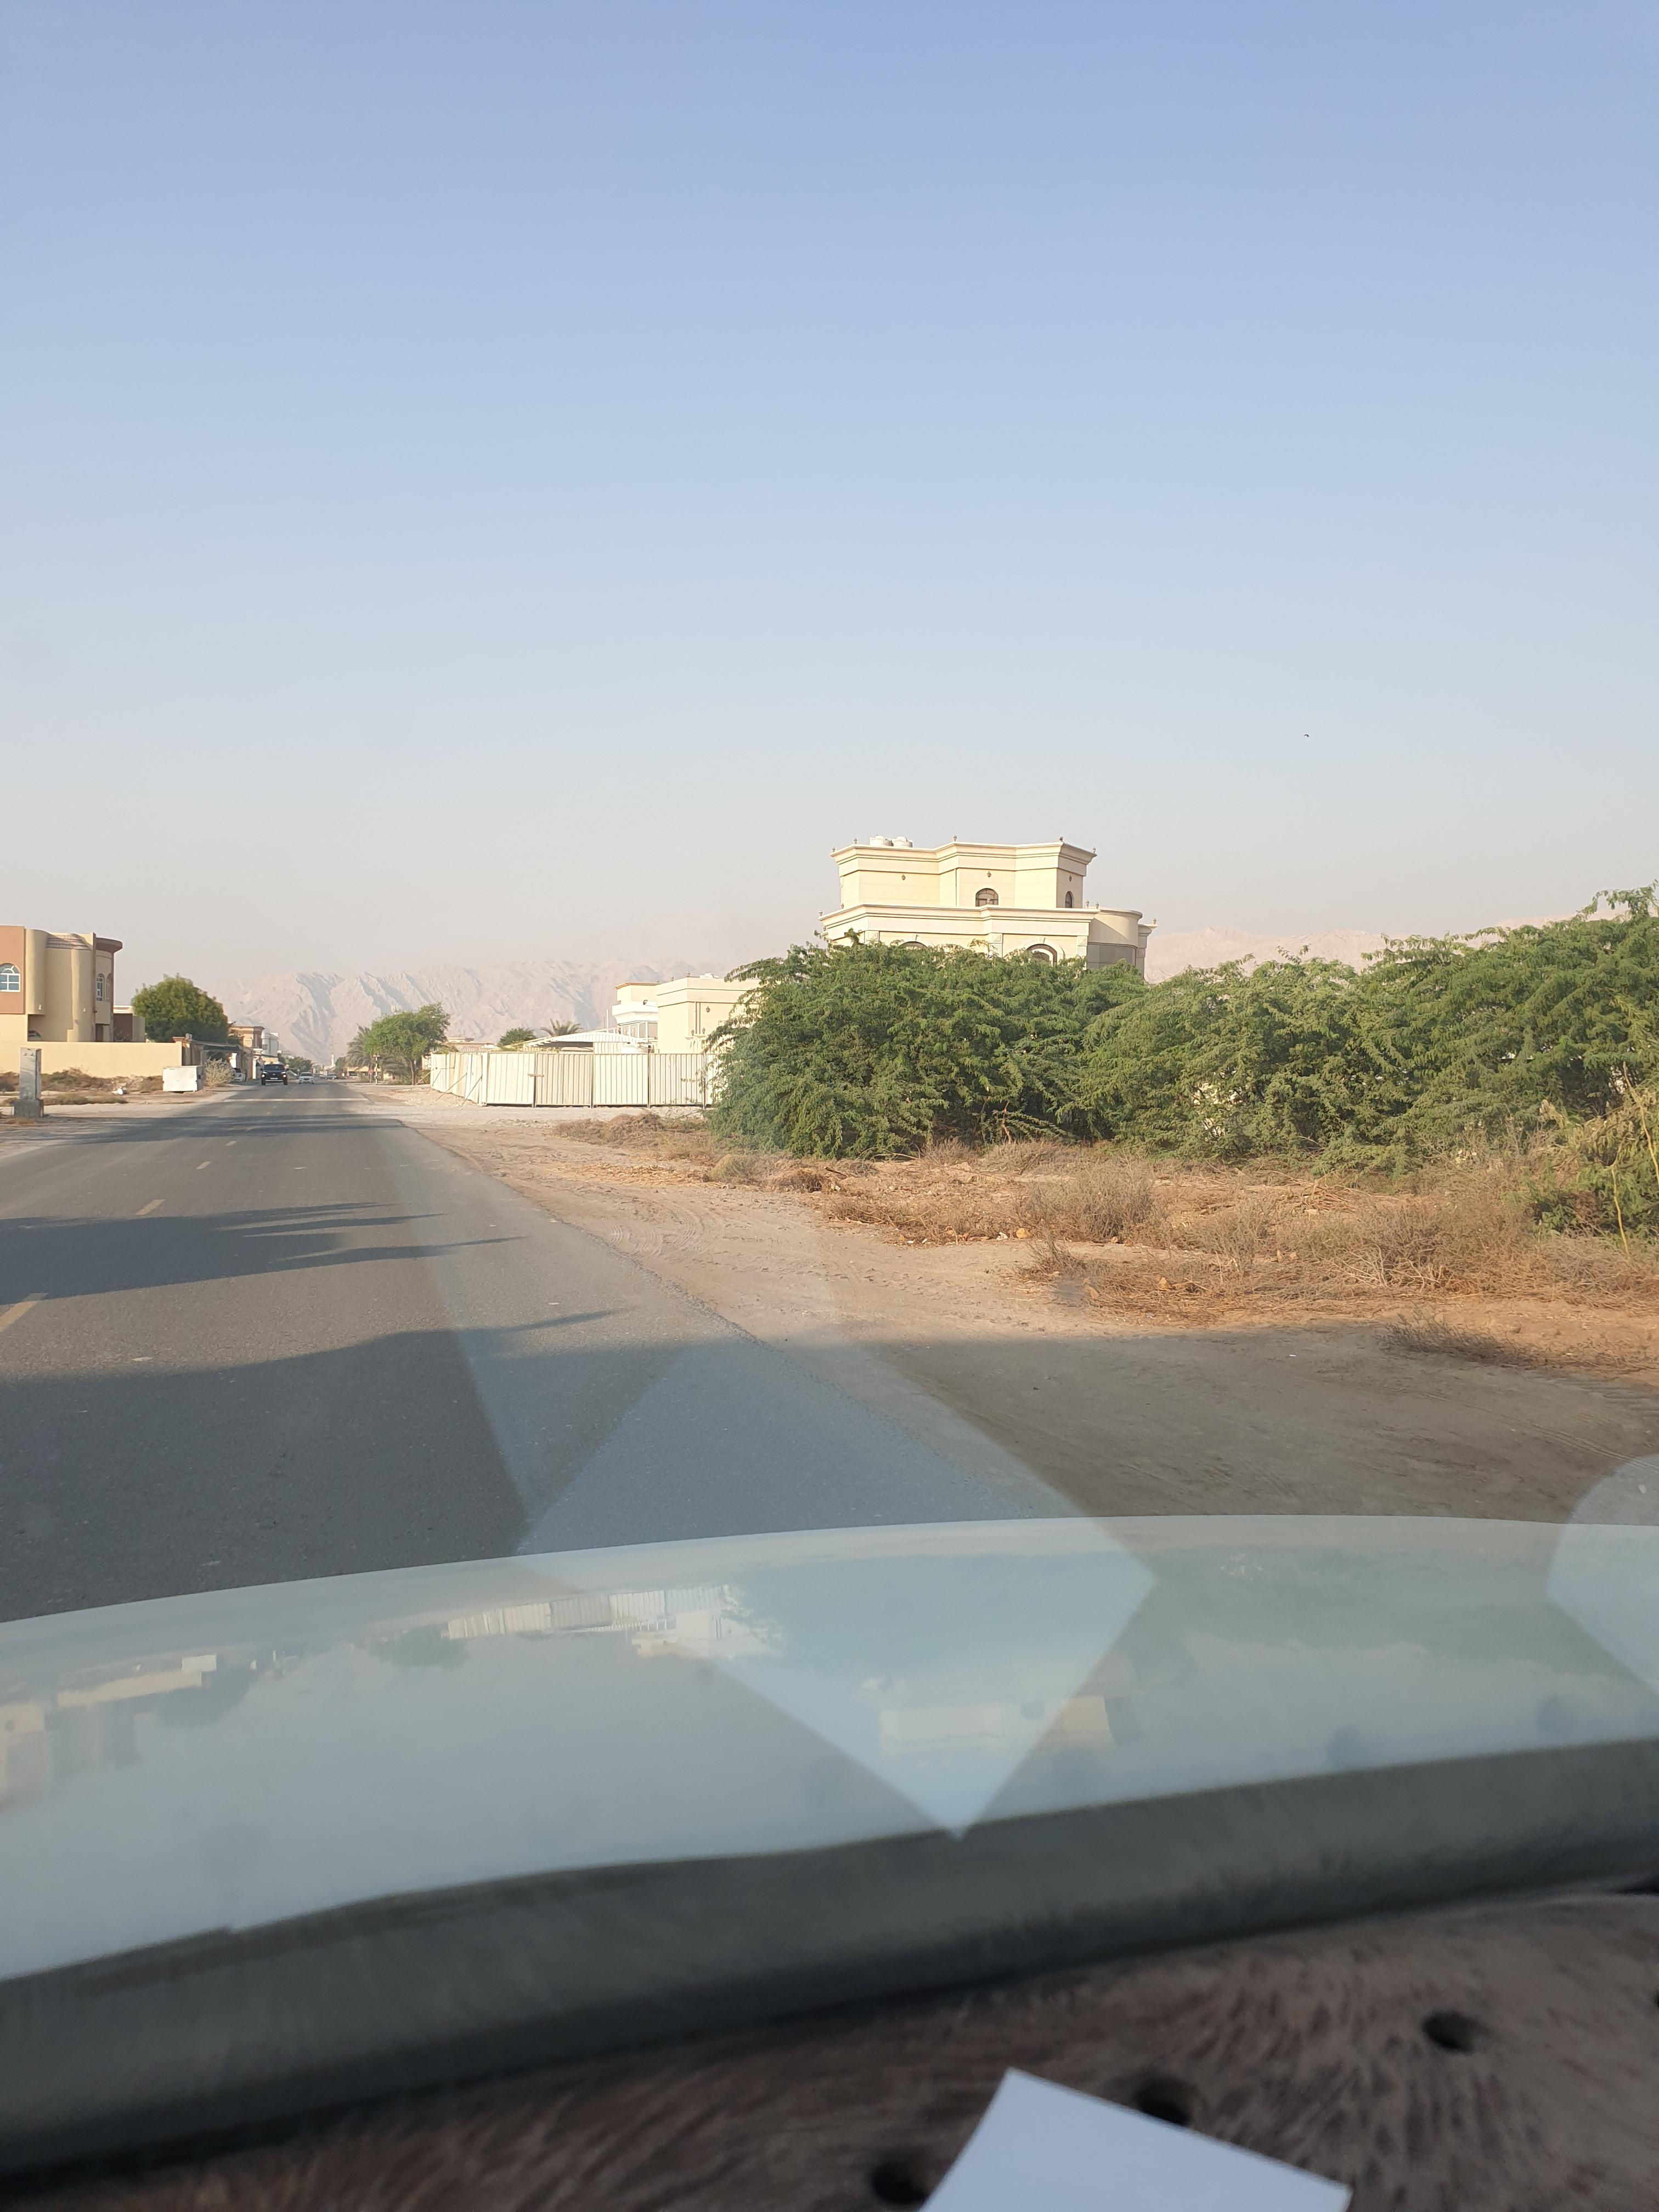fallen_trees: (1033, 1266, 1307, 1339), (1182, 1287, 1361, 1334), (1119, 1282, 1220, 1329)
